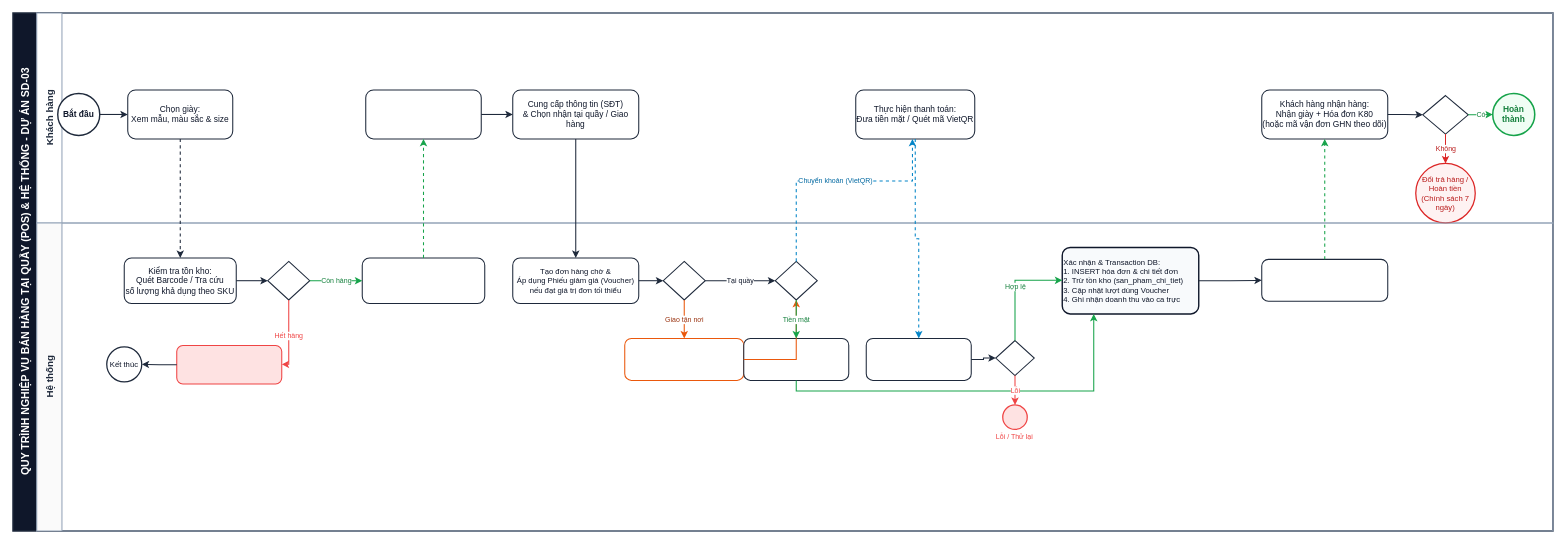
This 1565x543 diagram has some shape labels left out. The box of each missing label's shape, as (x1, y1, x2, y2) in pixels:
Báo hết hàng / Gợi ý size hoặc màu khác: (176, 345, 282, 384)
Giao tận nơi: Gọi API GHN tính cước ship theo Tỉnh / Quận / Phường: (624, 338, 744, 381)
In hóa đơn & Bàn giao: - Xuất hóa đơn nhiệt K80 - Giao ngay (hoặc đẩy đơn GHN): (1261, 259, 1388, 302)
Kiểm tra giao dịch VietQR / VNPay: Sinh QR động & xác nhận: (865, 338, 971, 381)
Thu tiền mặt: Nhập tiền khách đưa & Hệ thống tự tính tiền thừa: (743, 338, 849, 381)
Thêm vào giỏ hàng: Hiển thị giá sau giảm (% Sale): (365, 89, 481, 139)
Áp dụng Đợt giảm giá (%): Tính đơn giá sau khuyến mãi và cập nhật vào giỏ hàng: (361, 257, 485, 304)
